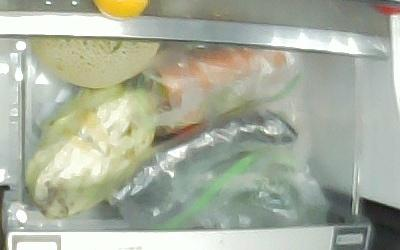cabbage: (23, 87, 157, 218)
carrot_vinyl: (160, 48, 290, 98)
eggplant_vinyl: (104, 109, 298, 211)
melon: (32, 39, 160, 88)
